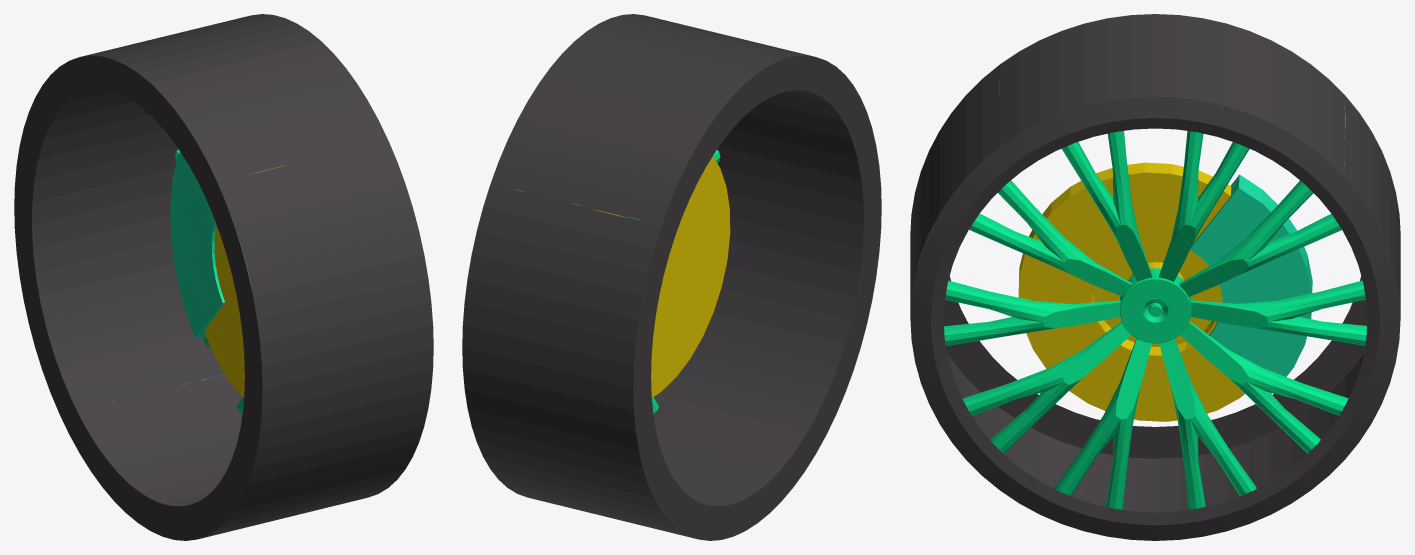
Rendered from llanta.obj.
3 views of the same model, side by side, from view 1: azimuth 30°, elevation 25°; view 2: azimuth 150°, elevation 25°; view 3: azimuth 270°, elevation 25° (orthographic).
Visible parts, largest first — view 1: Spokes_Plane.001_Matte_Black, Spokes_Plane.001_Gloss_Red, Spokes_Plane.001_Material.003; view 2: Spokes_Plane.001_Matte_Black, Spokes_Plane.001_Material.003; view 3: Spokes_Plane.001_Matte_Black, Spokes_Plane.001_Gloss_Black, Spokes_Plane.001_Material.003, Spokes_Plane.001_Gloss_Red.
Boxes of the visible parts, x1,y1,x2,y2 form: Spokes_Plane.001_Matte_Black: (14, 14, 433, 540); Spokes_Plane.001_Gloss_Red: (170, 152, 225, 338); Spokes_Plane.001_Material.003: (204, 225, 244, 397); Spokes_Plane.001_Matte_Black: (462, 14, 881, 540); Spokes_Plane.001_Material.003: (651, 156, 730, 397); Spokes_Plane.001_Matte_Black: (910, 14, 1400, 540); Spokes_Plane.001_Gloss_Black: (944, 131, 1366, 509); Spokes_Plane.001_Material.003: (1018, 162, 1244, 421); Spokes_Plane.001_Gloss_Red: (1190, 174, 1312, 404).
Bounding box in the file's own units: 0.5829 × 1.4 × 1.4.
Materials: 4 (4 with a texture image).
